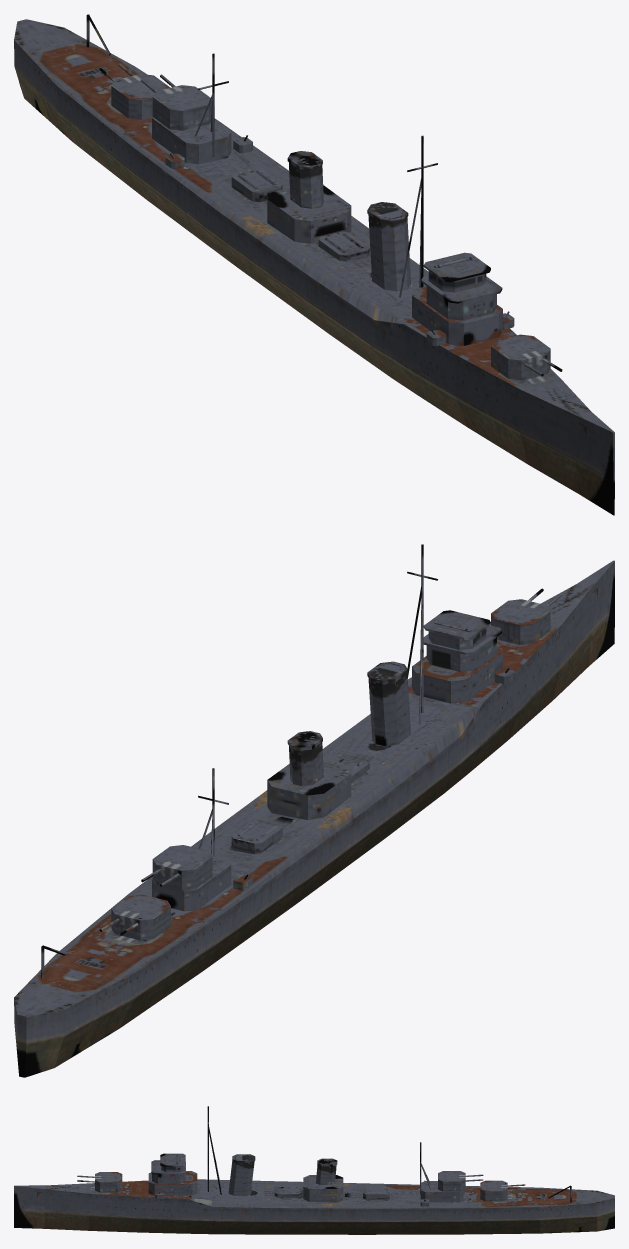
The model's file is simple-medium.glb.
3 views of the same model, one above another, from view 1: azimuth 30°, elevation 25°; view 2: azimuth 150°, elevation 25°; view 3: azimuth 270°, elevation 25° (orthographic). The views are drawn at different scales.
Visible parts, largest first — view 1: New escort hull, New escort deck, Deckhouse 1, Funnel 0, Deckhouse 0, Deckhouse 2, Main turret TurretShape3, Main turret TurretShape1, Main turret TurretShape5, Bridge tier 0, Bridge tier 1, Funnel 1 (+4 smaller); view 2: New escort hull, New escort deck, Deckhouse 1, Deckhouse 0, Funnel 0, Main turret TurretShape3, Main turret TurretShape5, Main turret TurretShape1, Deckhouse 2, Bridge tier 0, Bridge tier 1, Torpedo launcher.001 (+2 smaller); view 3: New escort hull, New escort deck, Deckhouse 1, Deckhouse 0, Funnel 0, Deckhouse 2, Main turret TurretShape5, Main turret TurretShape3, Main turret TurretShape1, Bridge tier 0, Funnel 1, Torpedo launcher.001 (+3 smaller).
Part boxes in pixels (box(x1,y1,x2,y2)): New escort hull: box(14, 40, 614, 515); New escort deck: box(14, 19, 614, 432); Deckhouse 1: box(267, 185, 351, 243); Funnel 0: box(368, 214, 411, 291); Deckhouse 0: box(412, 286, 502, 345); Deckhouse 2: box(152, 117, 231, 164); Main turret TurretShape3: box(152, 85, 212, 130); Main turret TurretShape1: box(491, 334, 550, 380); Main turret TurretShape5: box(111, 74, 170, 119); Bridge tier 0: box(426, 279, 496, 320); Bridge tier 1: box(428, 254, 486, 292); Funnel 1: box(289, 162, 323, 208); New escort hull: box(14, 561, 614, 1077); New escort deck: box(14, 560, 614, 1016); Deckhouse 1: box(267, 761, 351, 819); Deckhouse 0: box(412, 646, 502, 703); Funnel 0: box(368, 674, 410, 746); Main turret TurretShape3: box(152, 845, 212, 890); Main turret TurretShape5: box(111, 894, 170, 940); Main turret TurretShape1: box(491, 599, 550, 644); Deckhouse 2: box(152, 856, 231, 911); Bridge tier 0: box(426, 626, 496, 671); Bridge tier 1: box(428, 613, 486, 649); Torpedo launcher.001: box(231, 819, 282, 854); New escort hull: box(14, 1186, 614, 1234); New escort deck: box(14, 1179, 614, 1208); Deckhouse 1: box(303, 1175, 343, 1202); Deckhouse 0: box(148, 1171, 197, 1195); Funnel 0: box(228, 1161, 254, 1196); Deckhouse 2: box(420, 1181, 464, 1202); Main turret TurretShape5: box(480, 1180, 507, 1201); Main turret TurretShape3: box(438, 1171, 465, 1191); Main turret TurretShape1: box(95, 1172, 122, 1192); Bridge tier 0: box(152, 1166, 185, 1183); Funnel 1: box(316, 1164, 336, 1184); Torpedo launcher.001: box(363, 1186, 389, 1200).
Bounding box in the file's own units: 12.63 × 30.3 × 136.
1 material, 1 textured.
